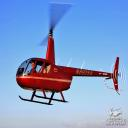helicopter: (17, 4, 125, 110)
